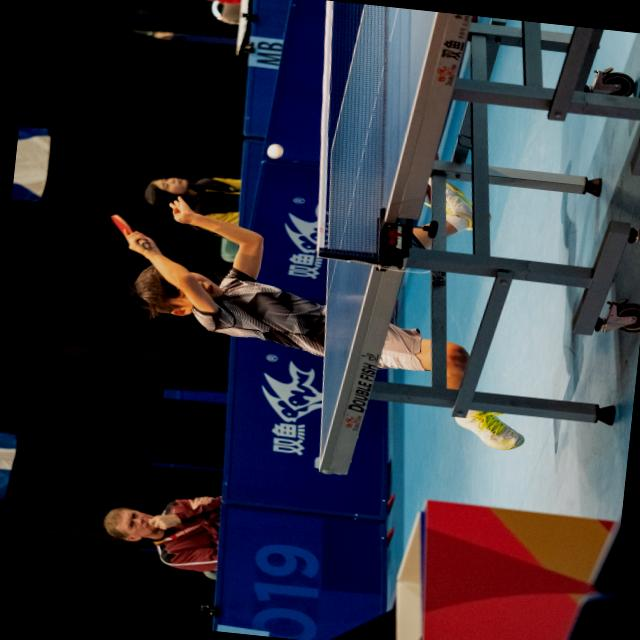TT Net: (311, 0, 406, 269)
TT Racket: (108, 212, 155, 250)
TT Table: (262, 0, 640, 505)
